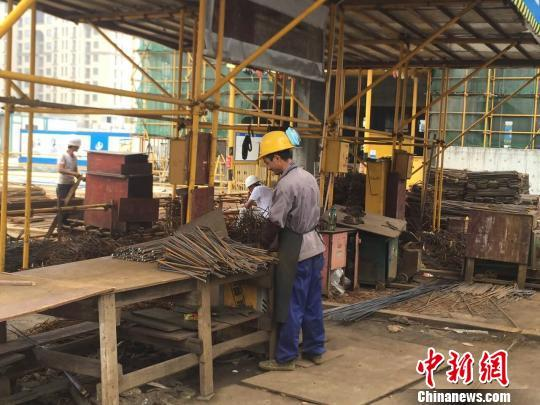helmet: (257, 131, 295, 160), (245, 175, 261, 191), (68, 137, 84, 150)
